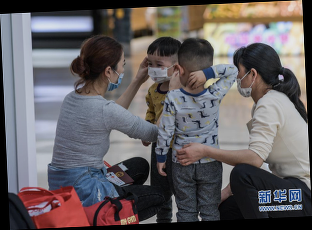with_mask: (147, 57, 173, 83), (110, 58, 127, 93), (236, 64, 253, 99)
